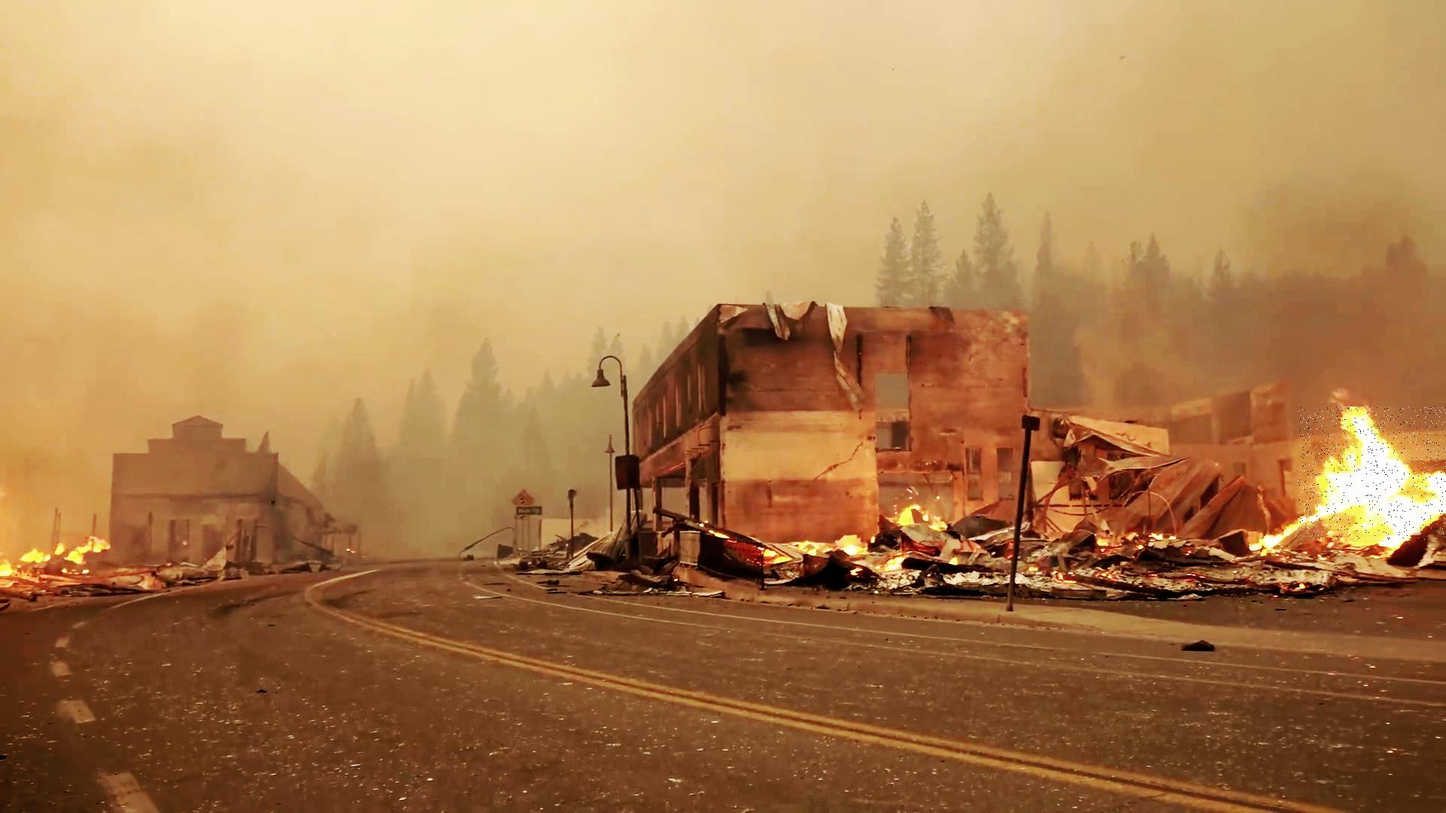fire: (1298, 407, 1446, 540)
